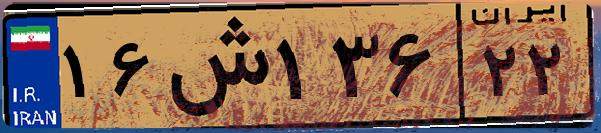1: (270, 28, 330, 110), (57, 26, 110, 100)
2: (475, 38, 525, 113), (525, 38, 570, 115)
3: (330, 28, 385, 110)
6: (385, 28, 445, 110), (110, 28, 158, 98)
ش: (158, 12, 270, 120)
